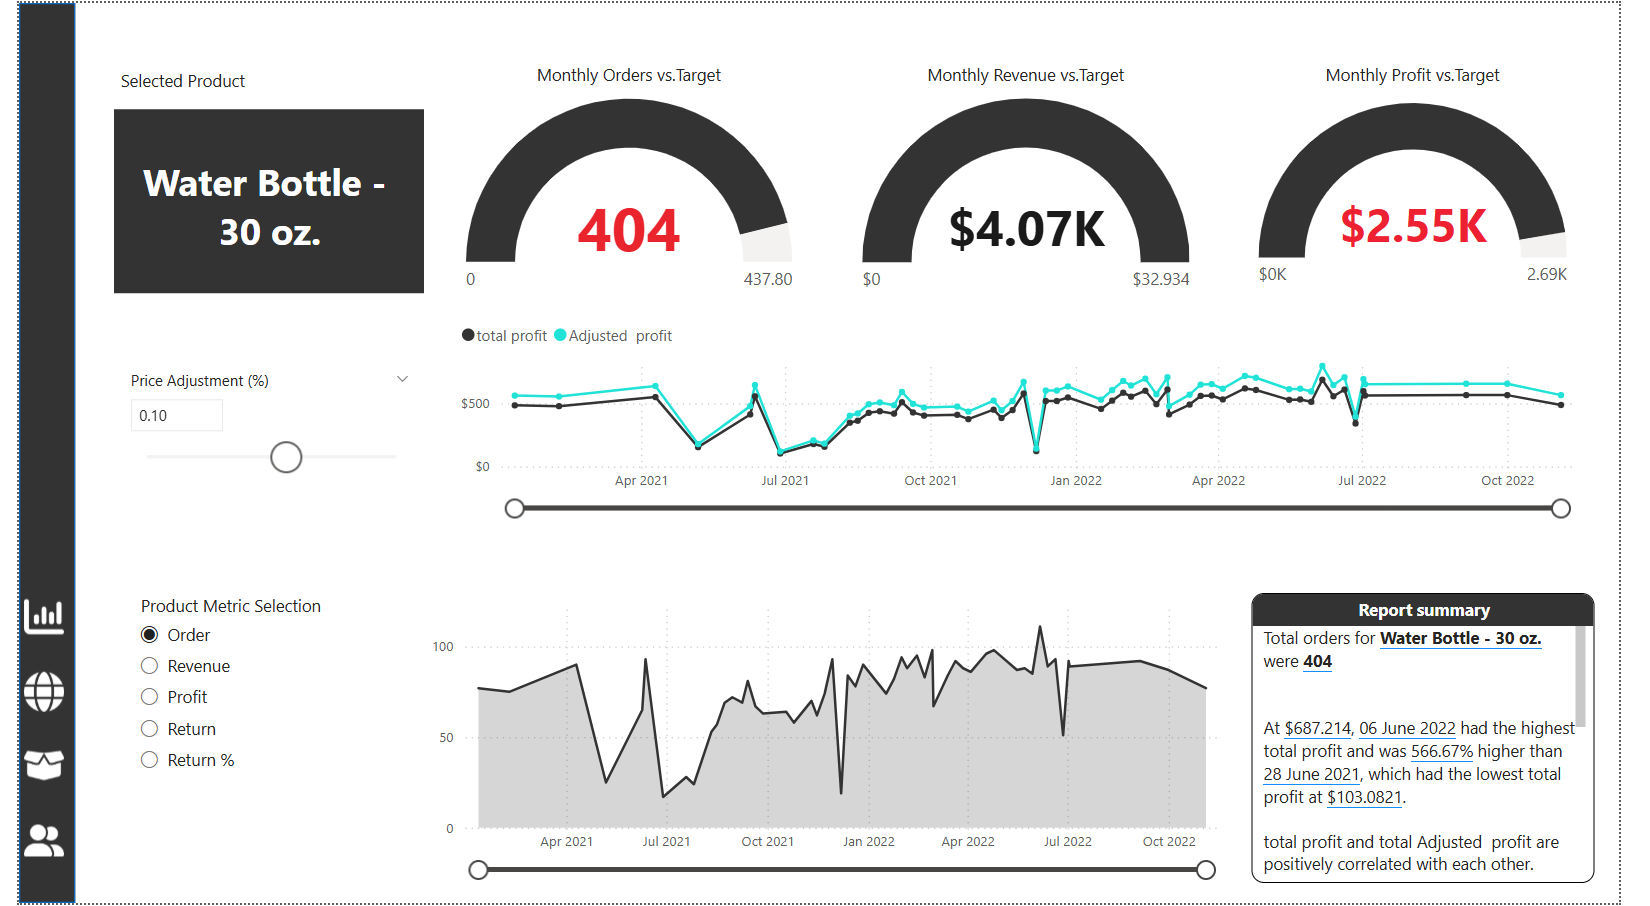

This screenshot's page, from the dashboard's own definition file:
{"tool":"powerbi","page":{"name":"Product detail","canvas":[1280,720],"ordinal":2},"visuals":[{"type":"shape","box":[0,0,45,720],"z":0},{"type":"actionButton","box":[0,470.9,44.6,40.3],"z":0,"group":"g1"},{"type":"gauge","title":"Monthly Orders vs.Target","fields":{"Y":["Measure Table (2).total order"],"MaxValue":["Measure Table (2).ordre target"]},"box":[352.3,47.5,270.7,198.7],"z":1000},{"type":"actionButton","box":[0,589.9,44.6,40.3],"z":1000,"group":"g1"},{"type":"gauge","title":"Monthly Revenue vs.Target","fields":{"Y":["Measure Table (2).total revenue"],"MaxValue":["Measure Table (2).Revenue target"]},"box":[668.6,47.5,272.2,198.7],"z":2000},{"type":"actionButton","box":[0,649.5,44.6,40.3],"z":2000,"group":"g1"},{"type":"gauge","title":"Monthly Profit vs.Target","fields":{"Y":["Measure Table (2).total profit"],"MaxValue":["Measure Table (2).profit target"]},"box":[986.4,47.5,256.3,198.7],"z":3000},{"type":"actionButton","box":[0,530.4,44.6,40.3],"z":3000,"group":"g1"},{"type":"lineChart","title":" Profit Trending","fields":{"Category":["Calendar Lookup.\"Date Heirarchy\".Start of Year","Calendar Lookup.\"Date Heirarchy\".Start of Month","Calendar Lookup.\"Date Heirarchy\".Start of Week","Calendar Lookup.\"Date Heirarchy\".Date"],"Y":["Measure Table (2).total profit","Measure Table (2).Adjusted  profit"]},"box":[348.5,246.2,911.5,168.5],"z":4000},{"type":"areaChart","title":" Returns Trending","fields":{"Y":["Measure Table (2).total order"],"Category":["Calendar Lookup.\"Date Heirarchy\".Start of Year","Calendar Lookup.\"Date Heirarchy\".Start of Month","Calendar Lookup.\"Date Heirarchy\".Start of Week","Calendar Lookup.\"Date Heirarchy\".Date"]},"box":[324,472.3,652.3,231.8],"z":5000},{"type":"card","fields":{"Values":["Min(Product lookup.ProductName)"]},"box":[76.3,85,247.7,146.9],"z":6000},{"type":"textbox","box":[76.3,47.5,162.7,31.7],"z":7000},{"type":"group","id":"g1","title":"Navigation Buttons","box":[0,470.9,44.6,218.9],"z":8000},{"type":"slicer","fields":{"Values":["Price Adjustment (%).Price Adjustment (%)"]},"box":[76.3,289.4,247.7,119.5],"z":9000},{"type":"slicer","fields":{"Values":["Product  Metric Selection.Product  Metric Selection"]},"box":[83.5,468,233.3,201.6],"z":10000},{"type":"textbox","title":"Report summary","box":[986.4,472.3,273.6,231.8],"z":11000}]}

Visuals, with their boxes on the page's 1280x720 design canvas (x1, y1, x2, y2). These are canvas units, not pixel positions in the 1650x906 screenshot, which may show the page scaled, cropped or inside an application window:
shape: {"left": 0, "top": 0, "right": 45, "bottom": 720}
actionButton: {"left": 0, "top": 471, "right": 45, "bottom": 511}
"Monthly Orders vs.Target" gauge: {"left": 352, "top": 48, "right": 623, "bottom": 246}
actionButton: {"left": 0, "top": 590, "right": 45, "bottom": 630}
"Monthly Revenue vs.Target" gauge: {"left": 669, "top": 48, "right": 941, "bottom": 246}
actionButton: {"left": 0, "top": 650, "right": 45, "bottom": 690}
"Monthly Profit vs.Target" gauge: {"left": 986, "top": 48, "right": 1243, "bottom": 246}
actionButton: {"left": 0, "top": 530, "right": 45, "bottom": 571}
" Profit Trending" lineChart: {"left": 348, "top": 246, "right": 1260, "bottom": 415}
" Returns Trending" areaChart: {"left": 324, "top": 472, "right": 976, "bottom": 704}
card - Min(Product lookup.ProductName): {"left": 76, "top": 85, "right": 324, "bottom": 232}
textbox: {"left": 76, "top": 48, "right": 239, "bottom": 79}
"Navigation Buttons" group: {"left": 0, "top": 471, "right": 45, "bottom": 690}
slicer - Price Adjustment (%).Price Adjustment (%): {"left": 76, "top": 289, "right": 324, "bottom": 409}
slicer - Product  Metric Selection.Product  Metric Selection: {"left": 84, "top": 468, "right": 317, "bottom": 670}
"Report summary" textbox: {"left": 986, "top": 472, "right": 1260, "bottom": 704}
